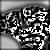node: (1, 34, 19, 50)
